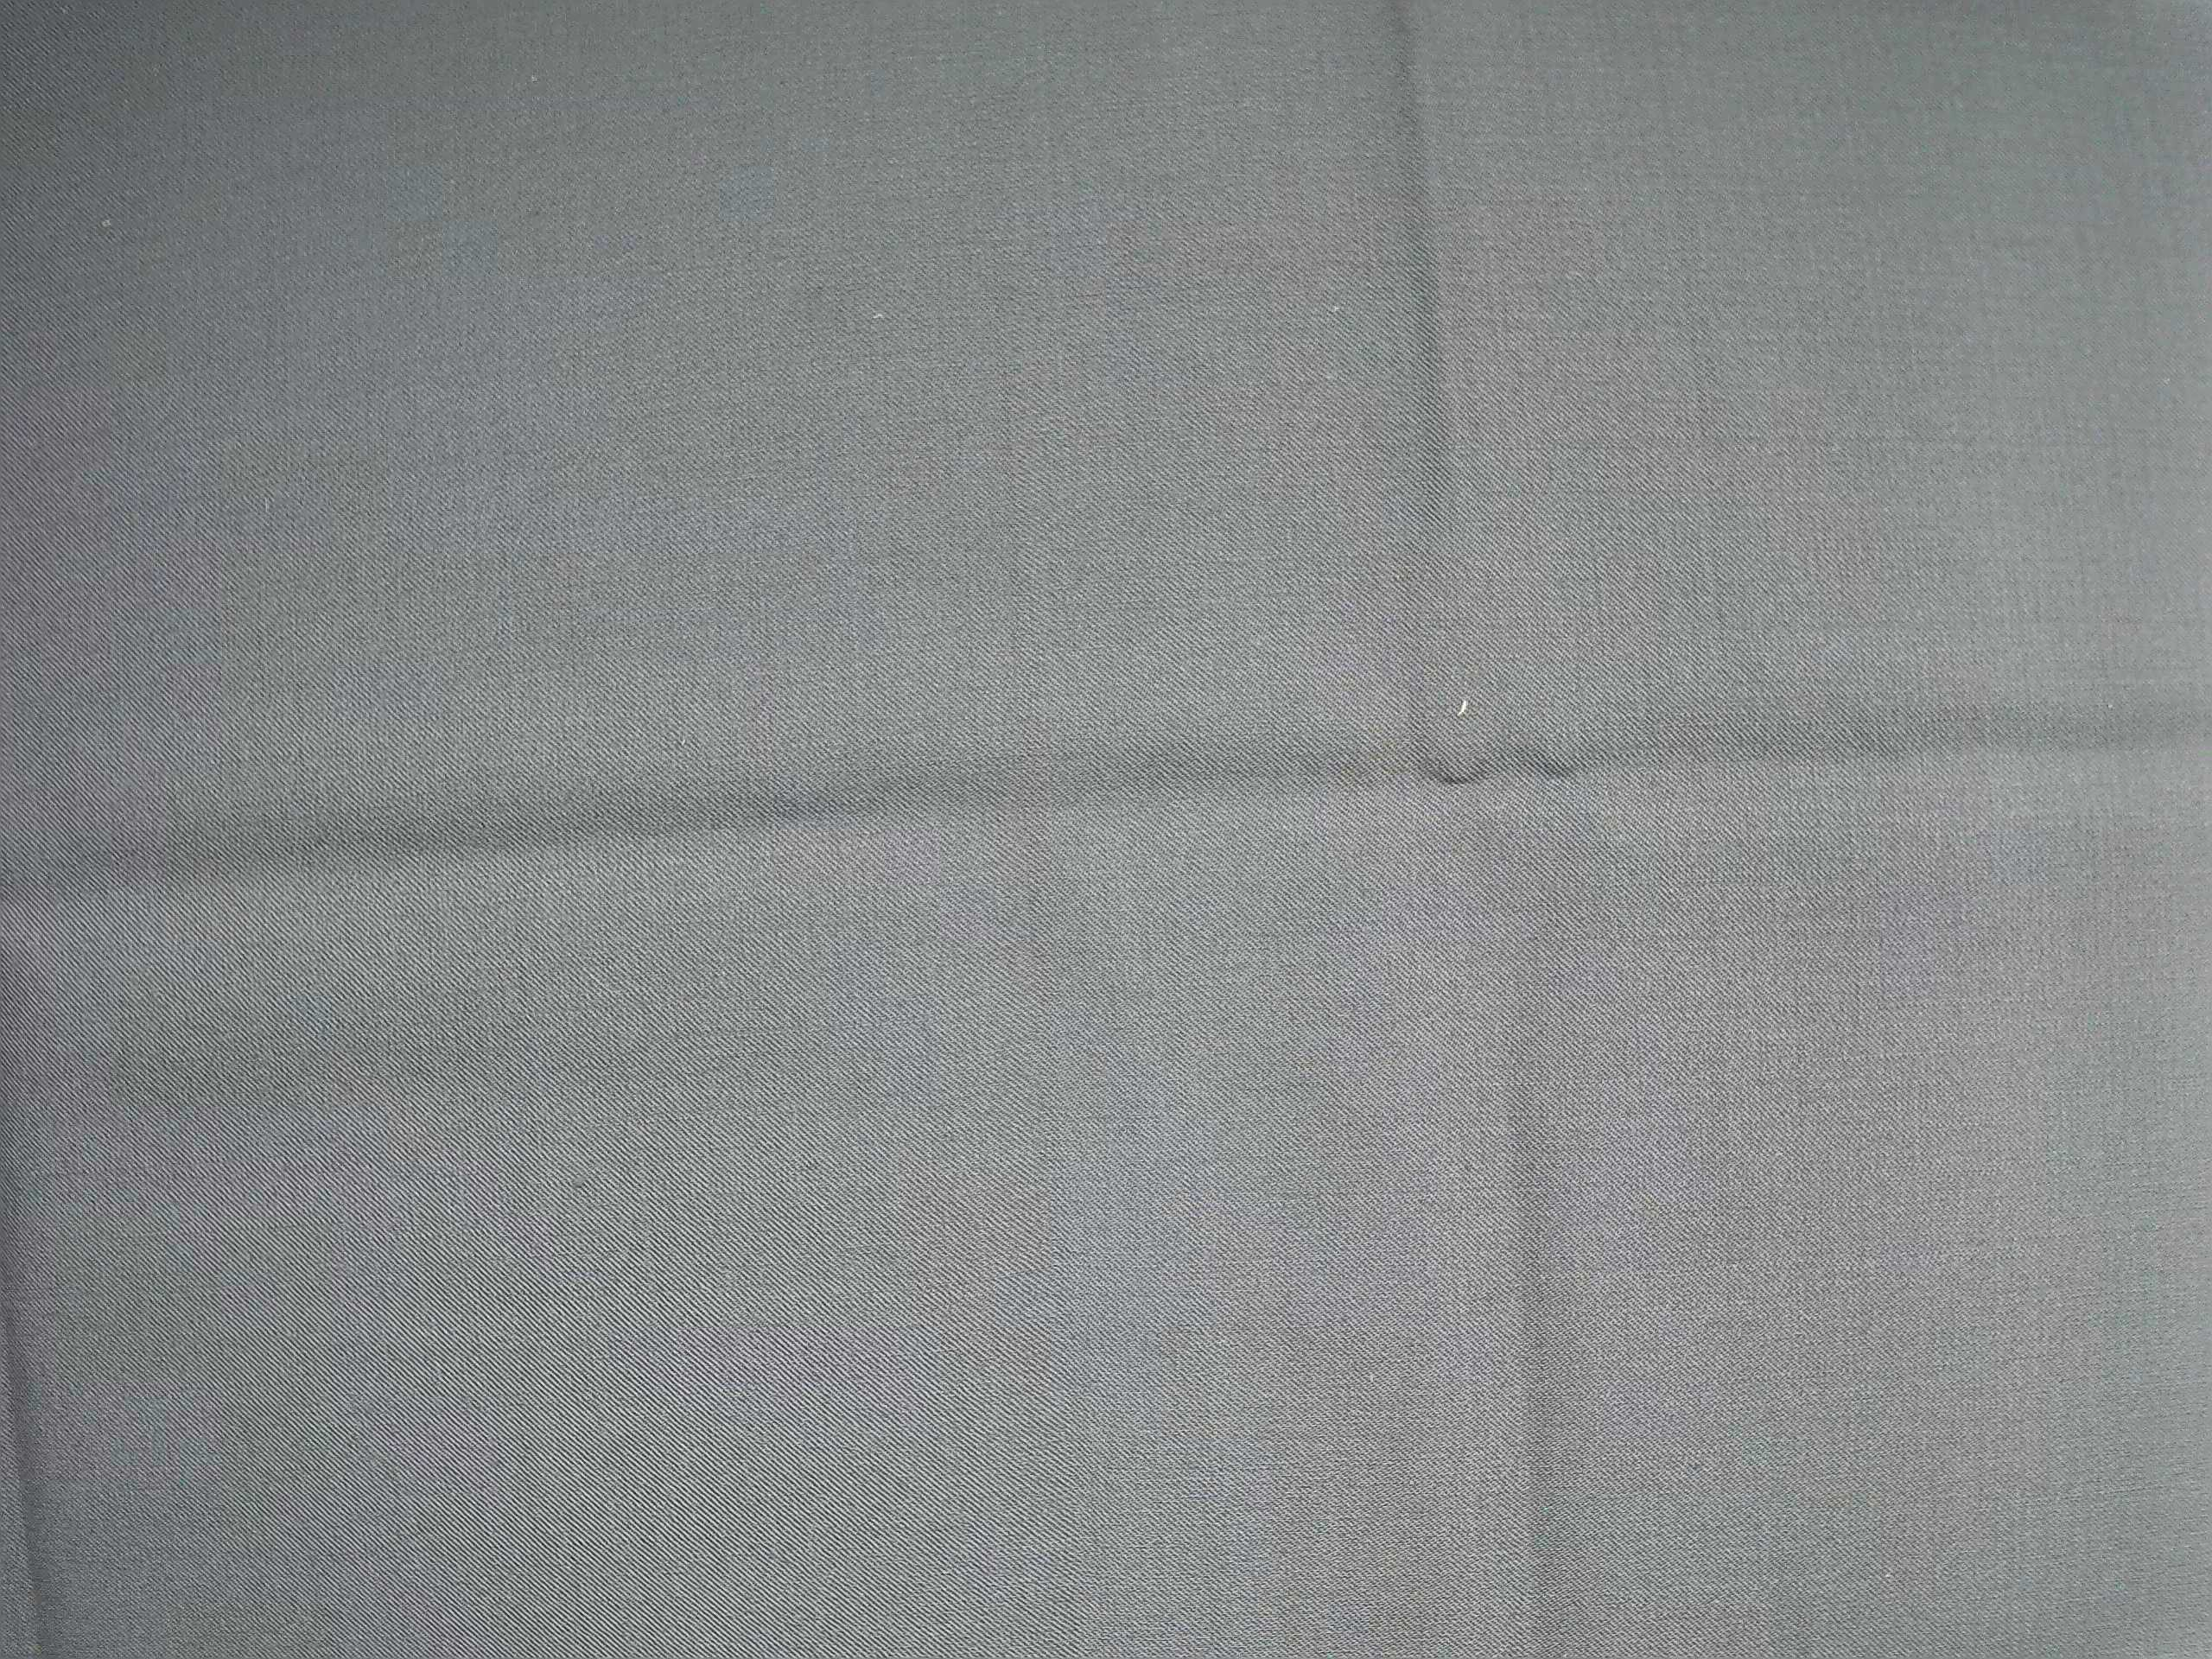hanging-warp: (982, 411, 1071, 1194)
